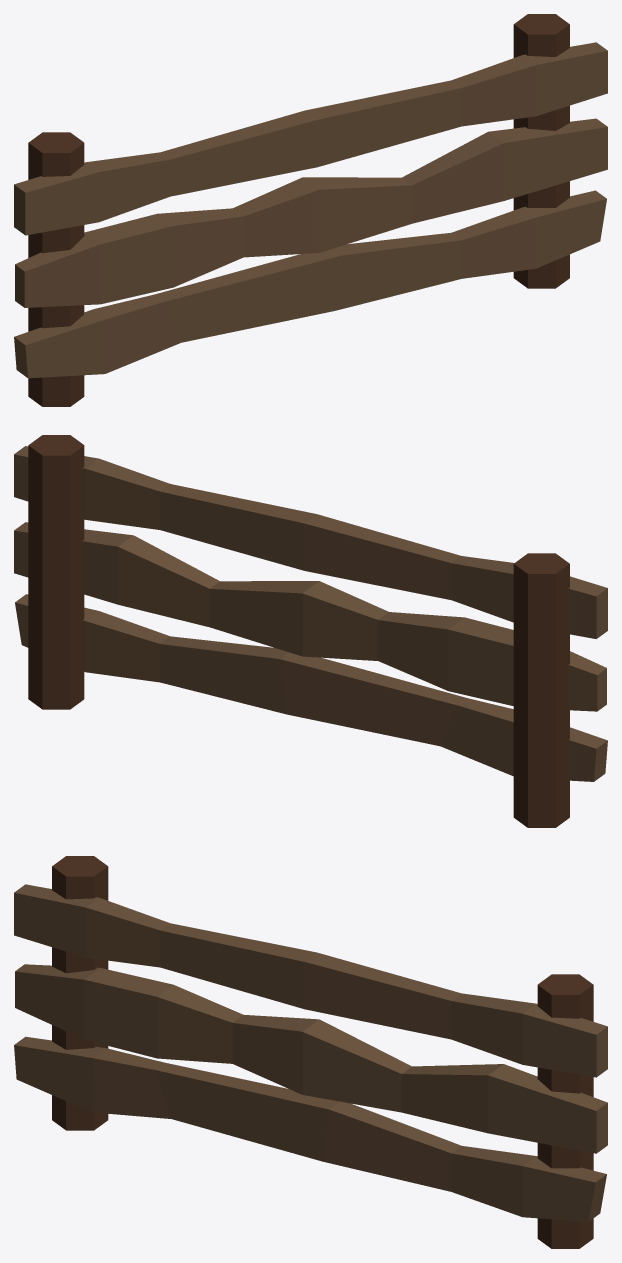
The model's file is fence.fbx.
The picture shows the model from 3 angles, top to bottom: view 1: azimuth 30°, elevation 25°; view 2: azimuth 150°, elevation 25°; view 3: azimuth 330°, elevation 25°; orthographic projection.
Parts seen in each view (by area): view 1: Cylinder; view 2: Cylinder; view 3: Cylinder.
Boxes of the visible parts, x1,y1,x2,y2 form: Cylinder: [14, 14, 607, 406]; Cylinder: [14, 435, 607, 827]; Cylinder: [14, 856, 607, 1248].
Size of the model in its own units: 240 by 100 by 24.53.
